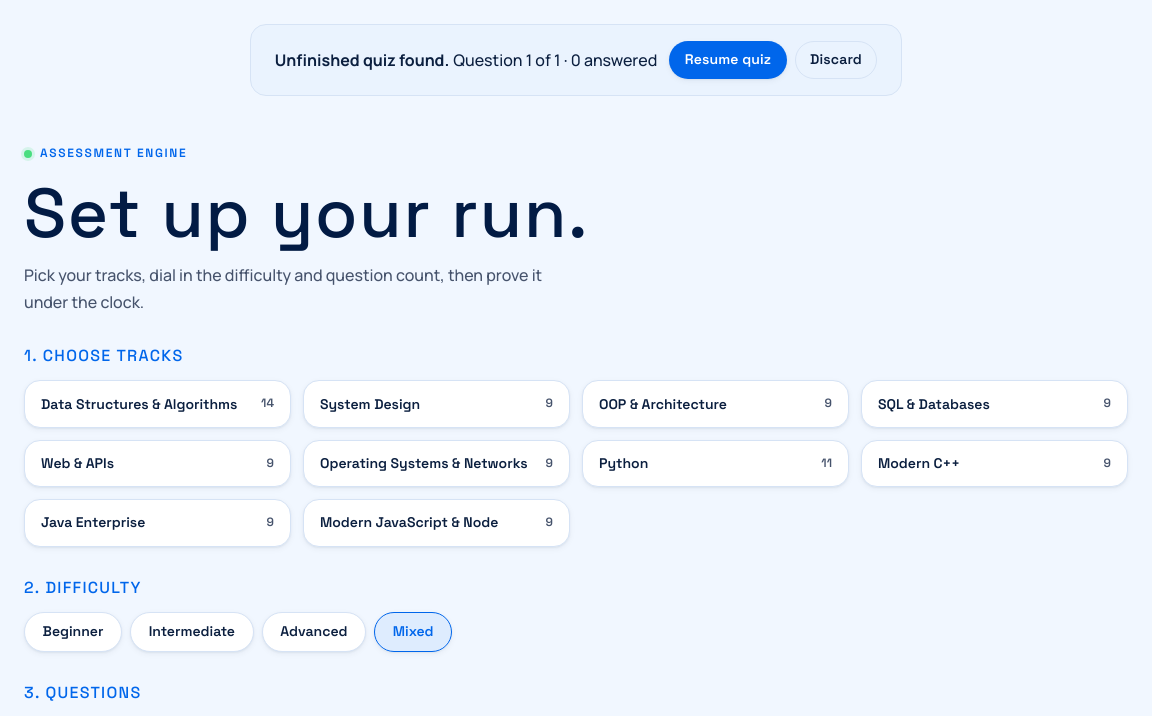
Test: practice session recovery › discards the draft and shows the setup screen
Click the button "Discard" at (836, 60), box [795,41,877,79]
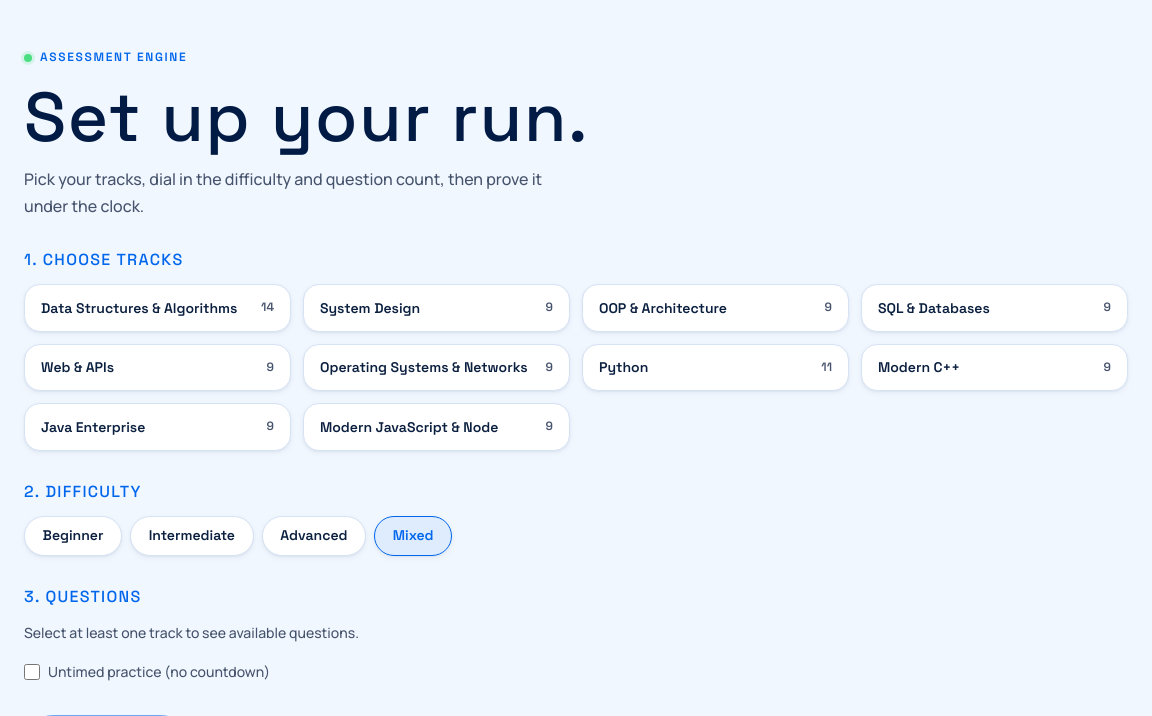
Check: the text "Unfinished quiz" is gone
